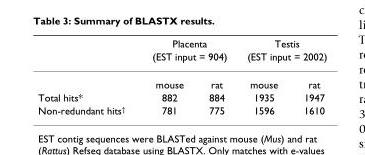table: (37, 36, 326, 115)
table column: (37, 36, 138, 115), (138, 36, 195, 115), (236, 36, 290, 115), (195, 36, 236, 115), (290, 36, 326, 115)
table column header: (37, 36, 326, 90)
table row: (37, 69, 326, 90), (37, 49, 326, 69), (37, 36, 326, 49), (37, 90, 326, 103), (37, 103, 326, 115)
table spanning cell: (138, 36, 236, 69), (236, 36, 326, 69)
